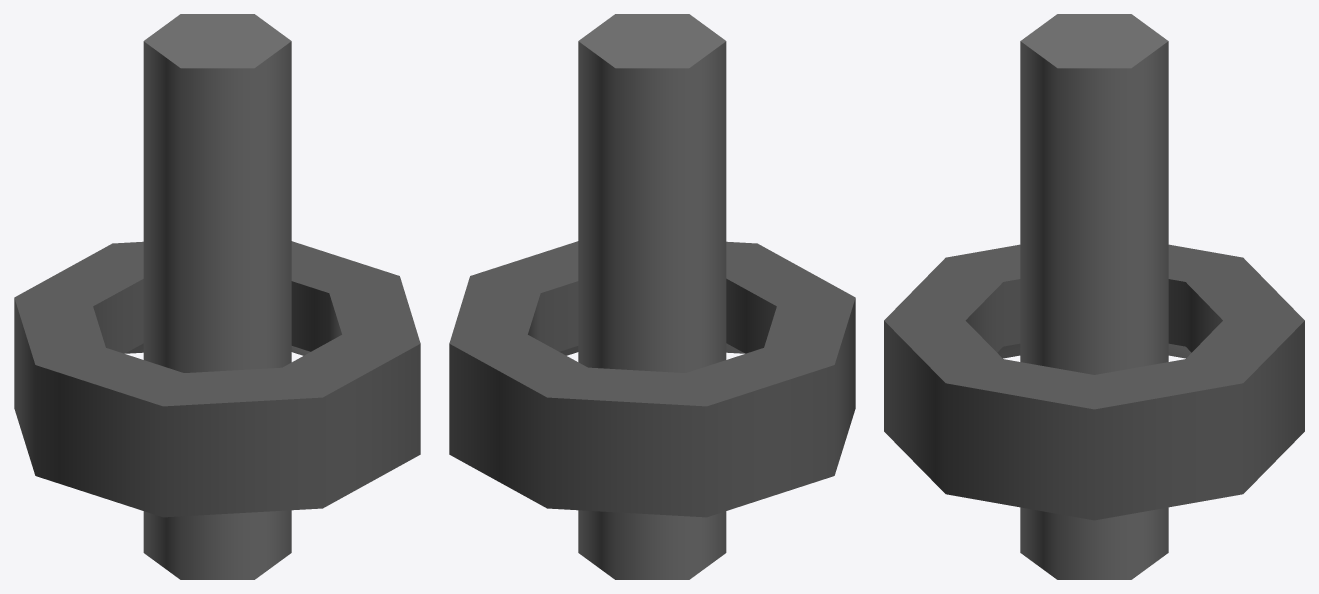
File: turret_001.fbx
3 renders of one model, left to right at view 1: azimuth 30°, elevation 25°; view 2: azimuth 150°, elevation 25°; view 3: azimuth 270°, elevation 25°, orthographic.
Parts seen in each view (by area): view 1: turret_001; view 2: turret_001; view 3: turret_001.
Boxes of the visible parts, x1,y1,x2,y2 form: turret_001: [14, 14, 420, 579]; turret_001: [449, 14, 855, 579]; turret_001: [884, 14, 1304, 579].
Size of the model in its own units: 81.18 by 81.18 by 109.
